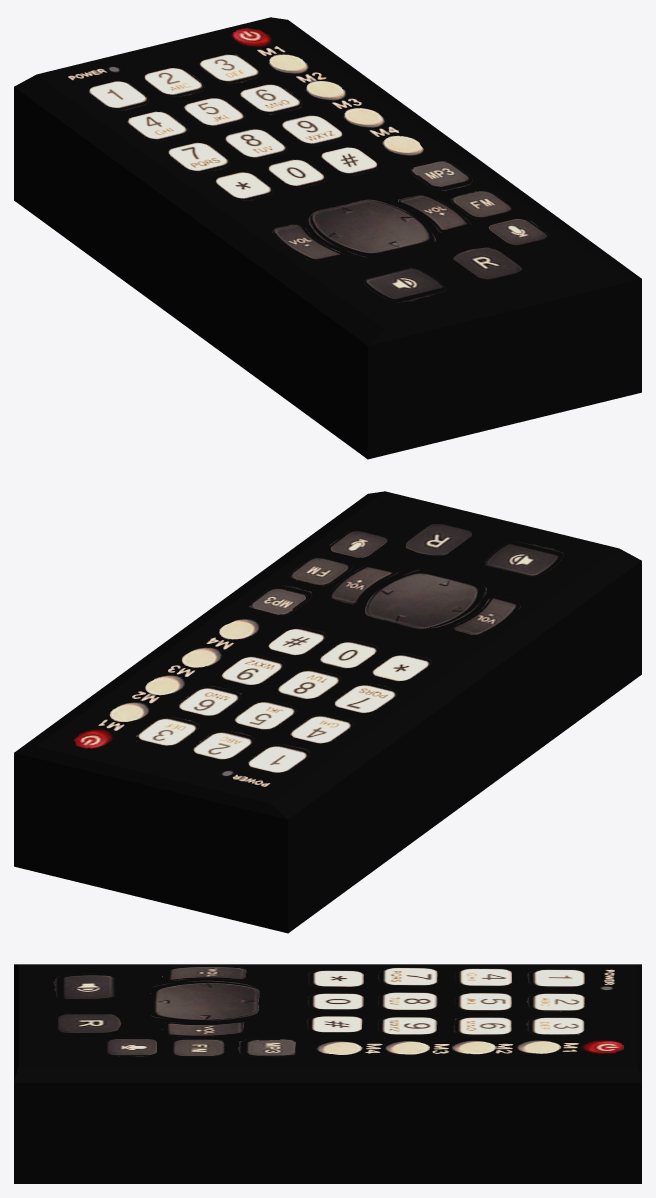
Rendered from RemoteControllerClean.fbx.
3 views of the same model, one above another, from view 1: azimuth 30°, elevation 25°; view 2: azimuth 150°, elevation 25°; view 3: azimuth 270°, elevation 25° (orthographic). The views are drawn at different scales.
Visible parts, largest first — view 1: RemoteControllerClean; view 2: RemoteControllerClean; view 3: RemoteControllerClean.
Boxes of the visible parts, bbox=[...] form: RemoteControllerClean: bbox=[14, 17, 641, 459]; RemoteControllerClean: bbox=[14, 491, 641, 933]; RemoteControllerClean: bbox=[14, 964, 641, 1183].
Bounding box in the file's own units: 33.07 × 14.51 × 73.92.
